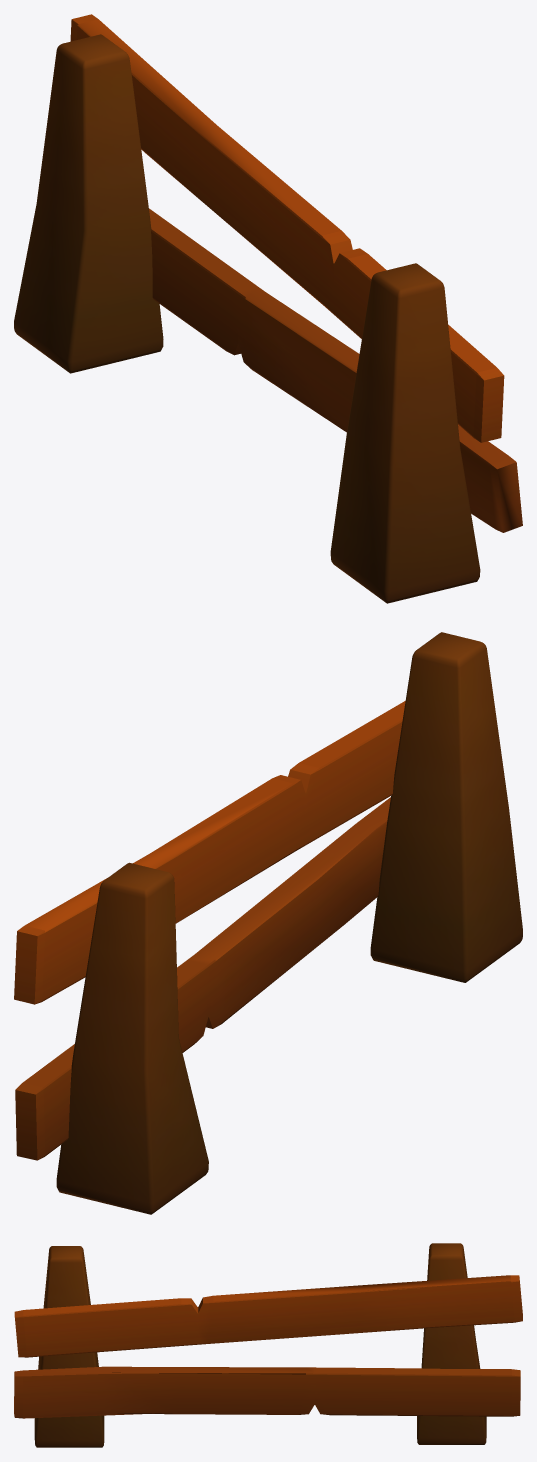
File: Fence.fbx
3 renders of one model, top to bottom at view 1: azimuth 30°, elevation 25°; view 2: azimuth 150°, elevation 25°; view 3: azimuth 270°, elevation 25°, orthographic. The views are drawn at different scales.
Parts seen in each view (by area): view 1: Post1, Post2, TopPlank, BottomPlank; view 2: Post1, Post2, TopPlank, BottomPlank; view 3: BottomPlank, TopPlank, Post2, Post1.
Part boxes in pixels (x1,y1,x2,y2): Post1: [330, 263, 480, 603]; Post2: [14, 34, 163, 373]; TopPlank: [70, 14, 504, 442]; BottomPlank: [149, 208, 522, 532]; Post1: [370, 632, 522, 982]; Post2: [56, 862, 208, 1214]; TopPlank: [14, 701, 405, 1004]; BottomPlank: [15, 797, 390, 1160]; BottomPlank: [14, 1366, 520, 1418]; TopPlank: [14, 1275, 522, 1357]; Post2: [417, 1243, 486, 1444]; Post1: [34, 1246, 104, 1447].
Size of the model in its own units: 170 by 393 by 983.
